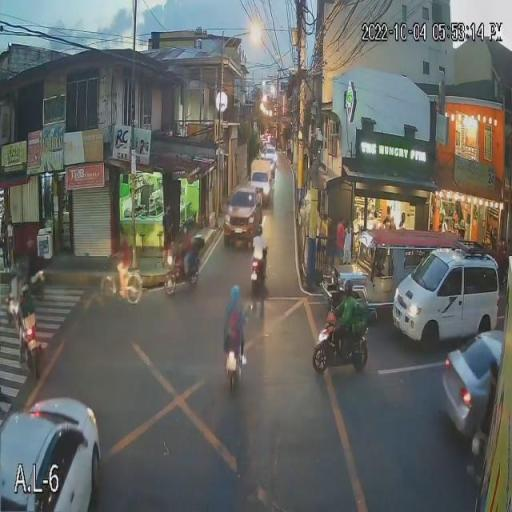helmet: (14, 282, 33, 297), (227, 284, 240, 303), (176, 224, 189, 236), (342, 283, 352, 296), (255, 225, 263, 237)
motorcycle: (311, 308, 369, 374), (8, 294, 46, 378), (222, 330, 248, 392), (162, 254, 200, 296), (9, 263, 48, 296), (249, 257, 266, 303)
rider: (332, 284, 365, 353), (222, 284, 248, 366), (11, 284, 40, 352), (174, 226, 198, 278), (17, 240, 41, 288), (249, 228, 269, 274)
